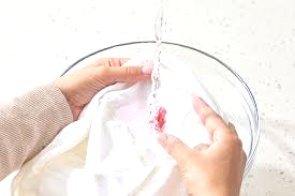blood: (149, 107, 167, 131)
